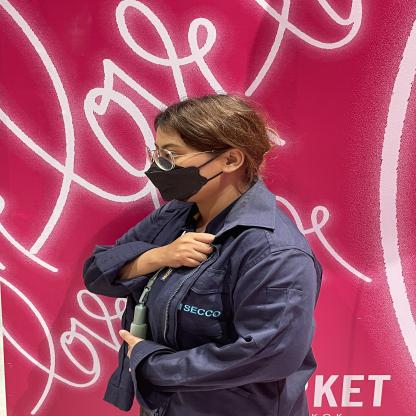Sadness: (61, 212, 241, 291)
